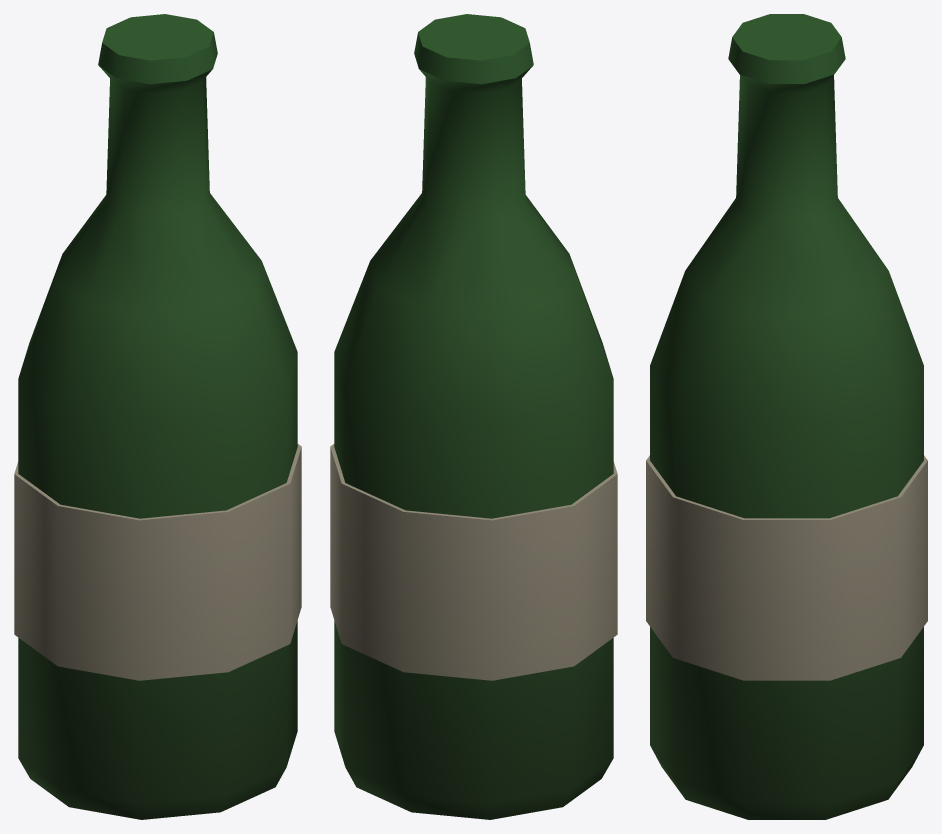
File: 28_bouteille.fbx
The picture shows the model from 3 angles, left to right: view 1: azimuth 30°, elevation 25°; view 2: azimuth 150°, elevation 25°; view 3: azimuth 270°, elevation 25°; orthographic projection.
Visible parts, largest first — view 1: Bouteille; view 2: Bouteille; view 3: Bouteille.
Part boxes in pixels (left/top/right/bottom): Bouteille: left=14, top=14, right=301, bottom=819; Bouteille: left=330, top=14, right=617, bottom=819; Bouteille: left=646, top=14, right=927, bottom=819.
Size of the model in its own units: 0.098 by 0.28 by 0.098.
1 material, 1 textured.
